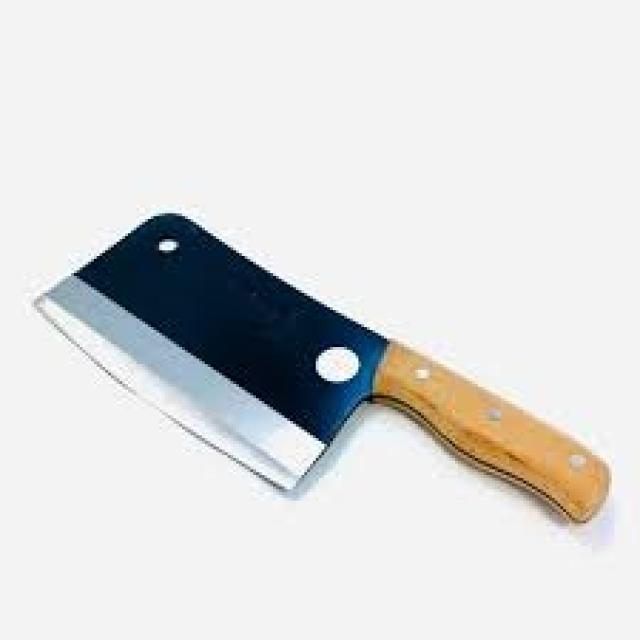Knife: (31, 210, 612, 523)
